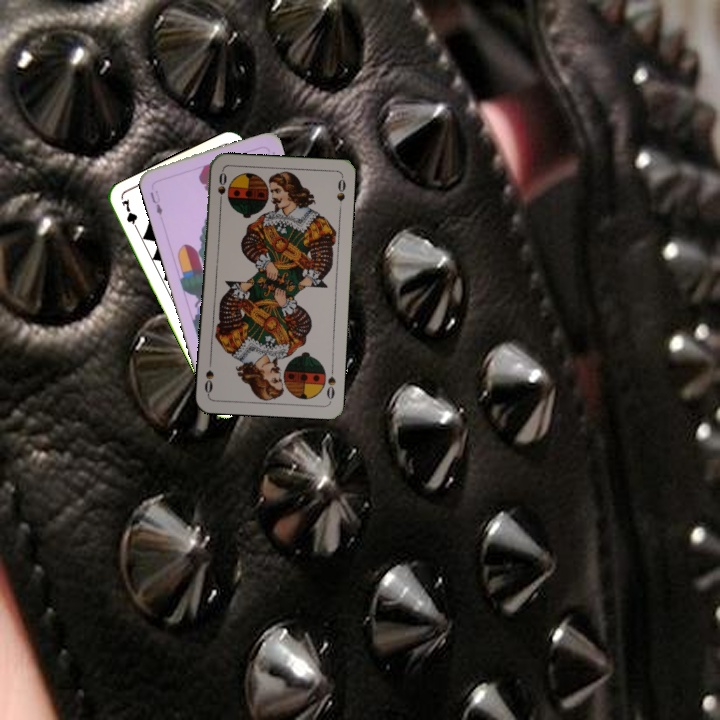EU: (146, 186, 165, 218)
G7: (118, 195, 141, 235)
SO: (322, 362, 338, 402), (214, 169, 229, 208)
